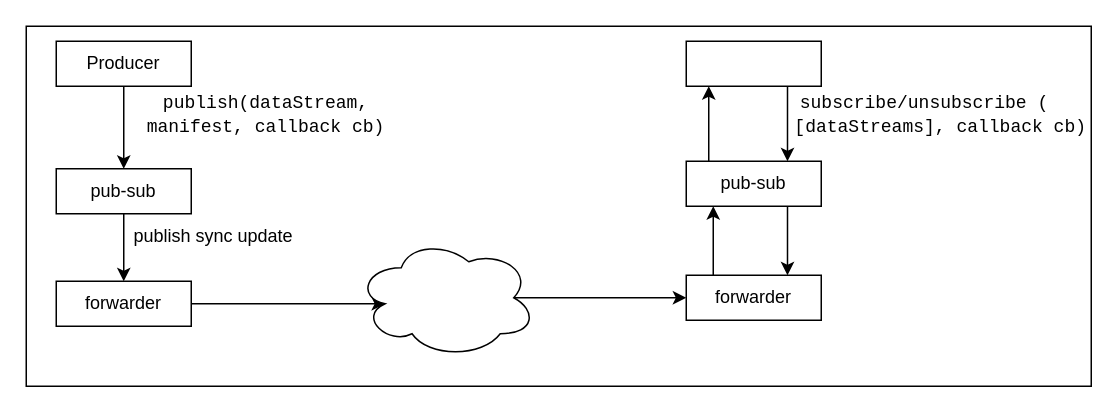
The diagram is 1118 pixels wide and 413 high, and some of its shapes have lost their labels. The shapes that lost their labels are listed below. From the top down, each one's centre as x and y in pixels, then its label:
At pixel 753 63: "Consumer".
At pixel 445 297: "NDN network".
